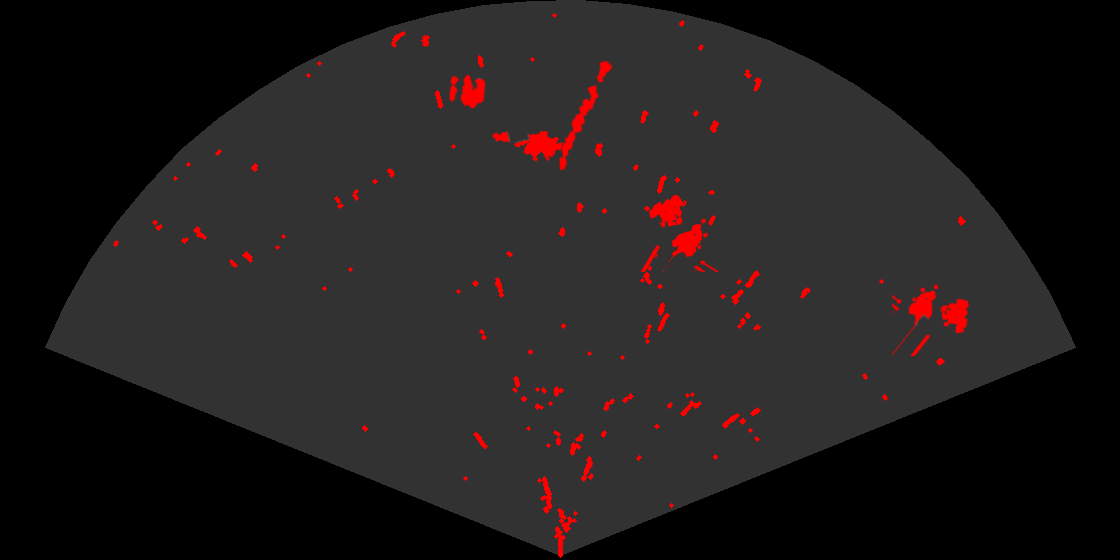ball: (448, 73, 487, 110)
cage: (639, 193, 720, 272), (892, 283, 971, 356)
chain: (557, 59, 614, 172)
frogman: (491, 129, 566, 163)
